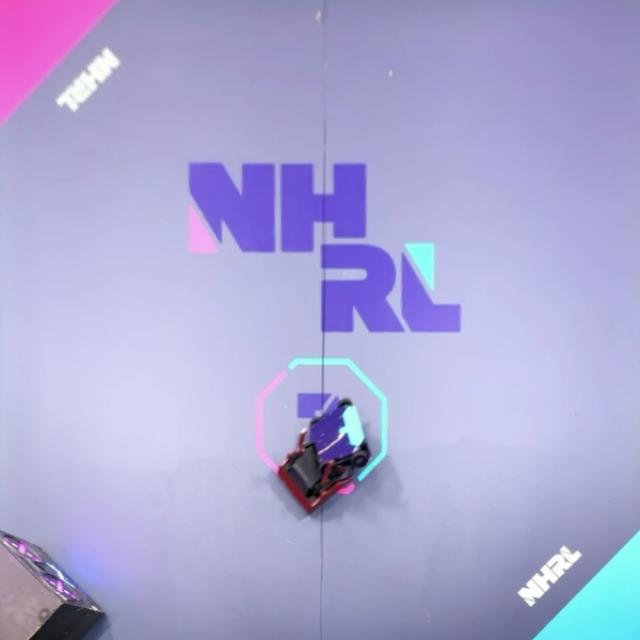housebot: (0, 528, 107, 640)
robot: (278, 428, 358, 513), (310, 398, 370, 470)
